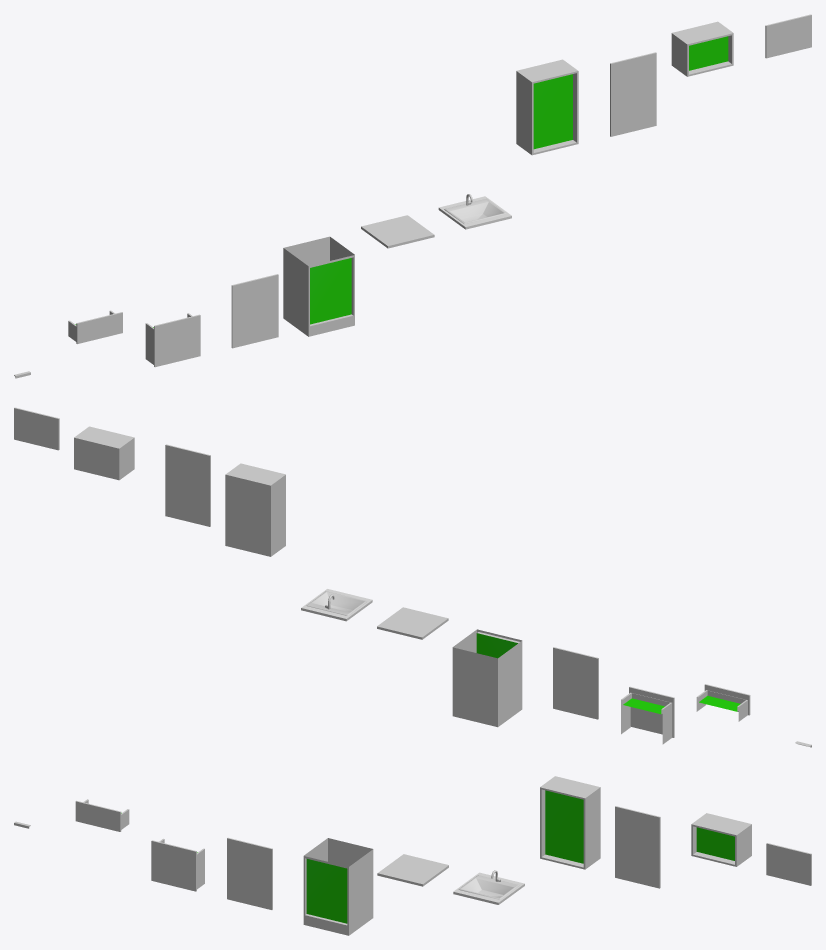
The model's file is kitchen_furnitures.fbx.
3 renders of one model, top to bottom at view 1: azimuth 30°, elevation 25°; view 2: azimuth 150°, elevation 25°; view 3: azimuth 330°, elevation 25°, orthographic. The views are drawn at different scales.
Parts seen in each view (by area): view 1: Kitchen_furniture, Kitchen_furniture_T, Kitchen_furniture_T_door, Kitchen_furniture_door, Kitchen_furniture_T_short, Kitchen_furniture_drawer_large, Kitchen_furniture_T_short_door, Kitchen_furniture_plate, Kitchen_furniture_drawer, Kitchen_sink.001; view 2: Kitchen_furniture, Kitchen_furniture_T, Kitchen_furniture_T_door, Kitchen_furniture_door, Kitchen_furniture_T_short, Kitchen_furniture_T_short_door, Kitchen_furniture_plate, Kitchen_furniture_drawer_large, Kitchen_furniture_drawer_large.001, Kitchen_sink.001, Kitchen_furniture_drawer.001; view 3: Kitchen_furniture, Kitchen_furniture_T, Kitchen_furniture_T_door, Kitchen_furniture_door, Kitchen_furniture_T_short, Kitchen_furniture_drawer_large, Kitchen_furniture_T_short_door, Kitchen_furniture_plate, Kitchen_furniture_drawer, Kitchen_sink.001, Kitchen_sink, Kitchen_furniture_drawer_large.001.
Boxes of the visible parts, x1,y1,x2,y2 form: Kitchen_furniture: (283, 236, 354, 336); Kitchen_furniture_T: (516, 59, 578, 155); Kitchen_furniture_T_door: (610, 52, 656, 136); Kitchen_furniture_door: (231, 274, 278, 348); Kitchen_furniture_T_short: (671, 21, 733, 76); Kitchen_furniture_drawer_large: (154, 314, 200, 367); Kitchen_furniture_T_short_door: (765, 14, 811, 58); Kitchen_furniture_plate: (361, 215, 434, 248); Kitchen_furniture_drawer: (76, 312, 122, 343); Kitchen_sink.001: (444, 198, 506, 224); Kitchen_furniture: (452, 629, 522, 727); Kitchen_furniture_T: (225, 463, 285, 556); Kitchen_furniture_T_door: (165, 444, 210, 526); Kitchen_furniture_door: (553, 647, 598, 719); Kitchen_furniture_T_short: (74, 426, 134, 480); Kitchen_furniture_T_short_door: (14, 407, 59, 450); Kitchen_furniture_plate: (377, 607, 448, 639); Kitchen_furniture_drawer_large: (629, 686, 674, 737); Kitchen_furniture_drawer_large.001: (621, 692, 672, 744); Kitchen_sink.001: (306, 591, 367, 615); Kitchen_furniture_drawer.001: (696, 690, 747, 721); Kitchen_furniture: (303, 838, 373, 935); Kitchen_furniture_T: (540, 776, 600, 869); Kitchen_furniture_T_door: (615, 806, 660, 888); Kitchen_furniture_door: (227, 837, 272, 909); Kitchen_furniture_T_short: (691, 813, 751, 866); Kitchen_furniture_drawer_large: (151, 840, 196, 891); Kitchen_furniture_T_short_door: (766, 843, 811, 885); Kitchen_furniture_plate: (377, 854, 448, 886); Kitchen_furniture_drawer: (75, 800, 121, 831); Kitchen_sink.001: (458, 875, 519, 899); Kitchen_sink: (453, 872, 524, 904); Kitchen_furniture_drawer_large.001: (159, 838, 204, 889).
Bounding box in the file's own units: 1039 × 235 × 60.46.
